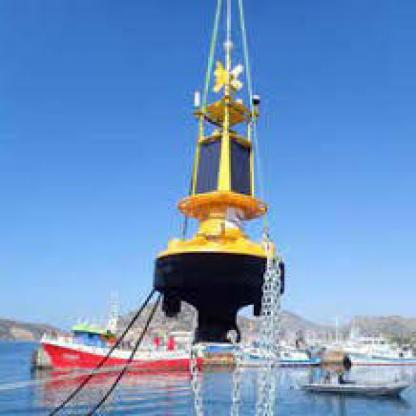buoy: (145, 43, 290, 289)
